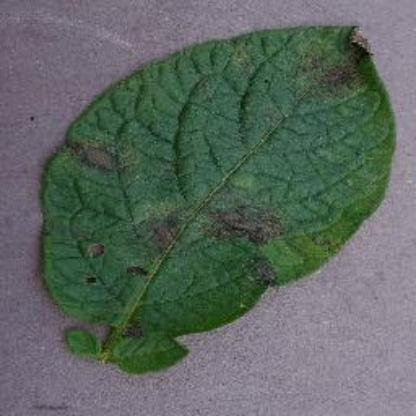Late-Blight: (36, 18, 402, 376)
